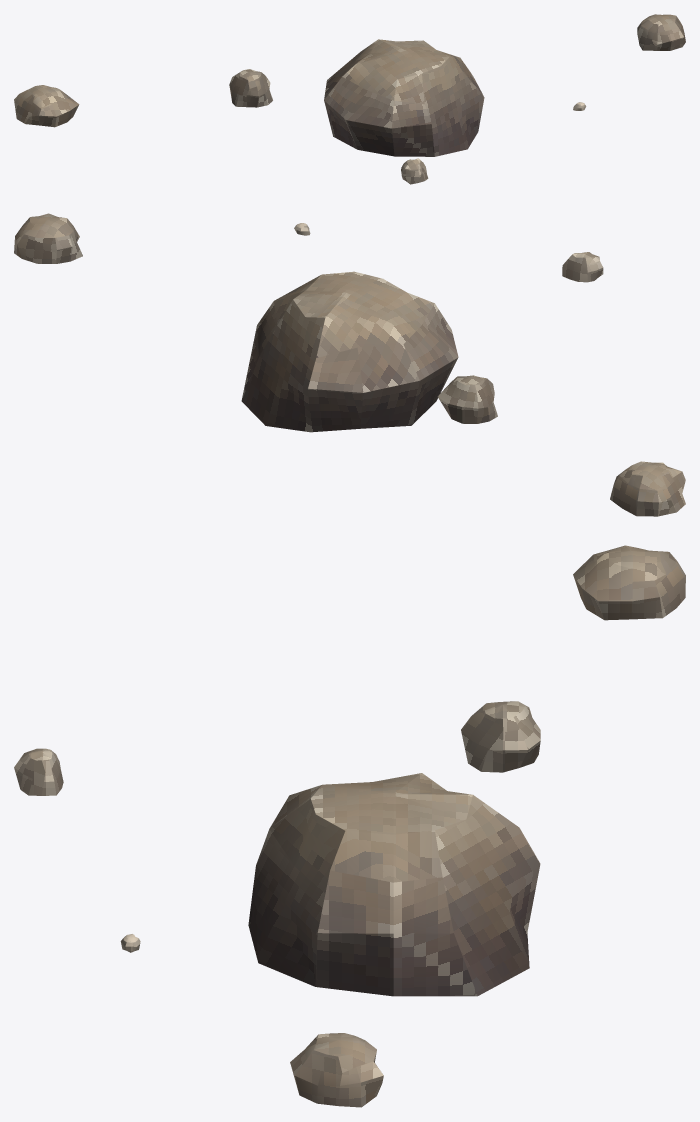
3 renders of one model, top to bottom at view 1: azimuth 30°, elevation 25°; view 2: azimuth 150°, elevation 25°; view 3: azimuth 270°, elevation 25°, orthographic. The views are drawn at different scales.
Parts seen in each view (by area): view 1: Grit; view 2: Grit; view 3: Grit.
Boxes of the visible parts, bbox=[...] form: Grit: bbox=[14, 14, 685, 184]; Grit: bbox=[14, 213, 685, 516]; Grit: bbox=[14, 545, 685, 1107].
Bounding box in the file's own units: 12.6 × 1.68 × 6.77.
Materials: 1 (1 with a texture image).
